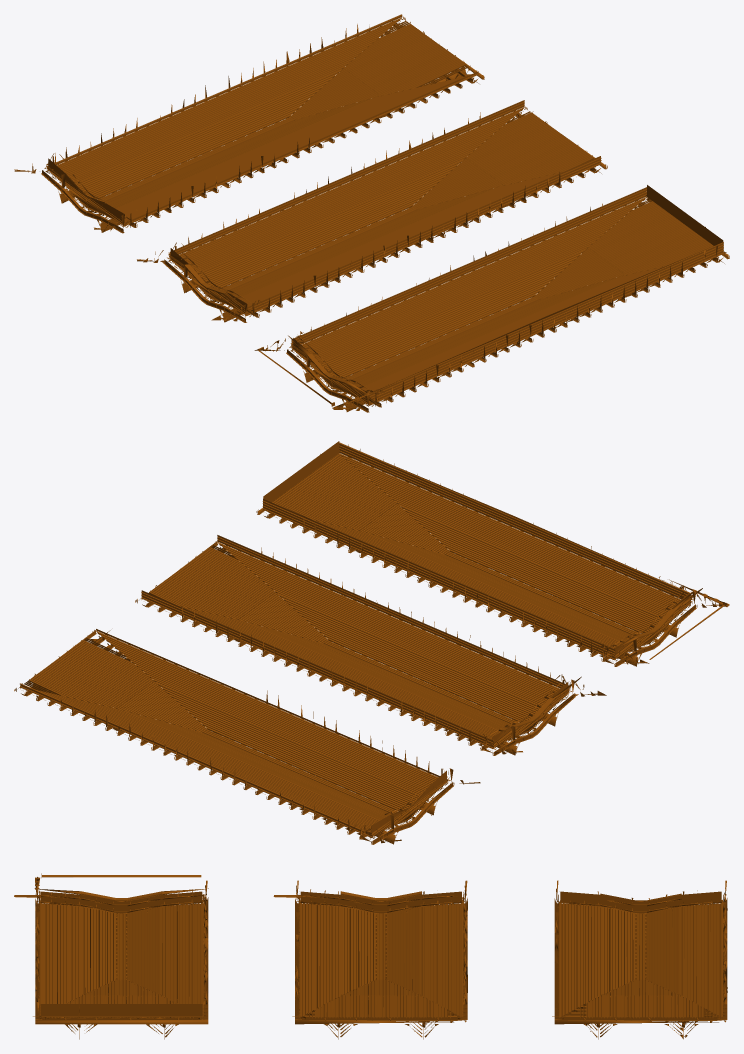
The model's file is LEO.glb.
The picture shows the model from 3 angles, top to bottom: view 1: azimuth 30°, elevation 25°; view 2: azimuth 150°, elevation 25°; view 3: azimuth 270°, elevation 25°; orthographic projection. The views are drawn at different scales.
Parts seen in each view (by area): view 1: LEO; view 2: LEO; view 3: LEO.
Boxes of the visible parts, x1,y1,x2,y2 form: LEO: (14, 14, 729, 412); LEO: (14, 441, 729, 844); LEO: (14, 873, 727, 1039).
Bounding box in the file's own units: 1.33 × 0.3274 × 1.96.
